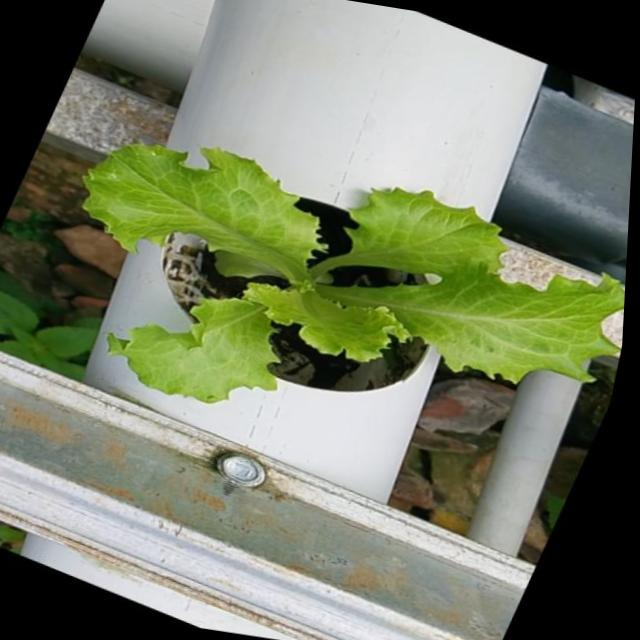Baby: (79, 136, 625, 396)
